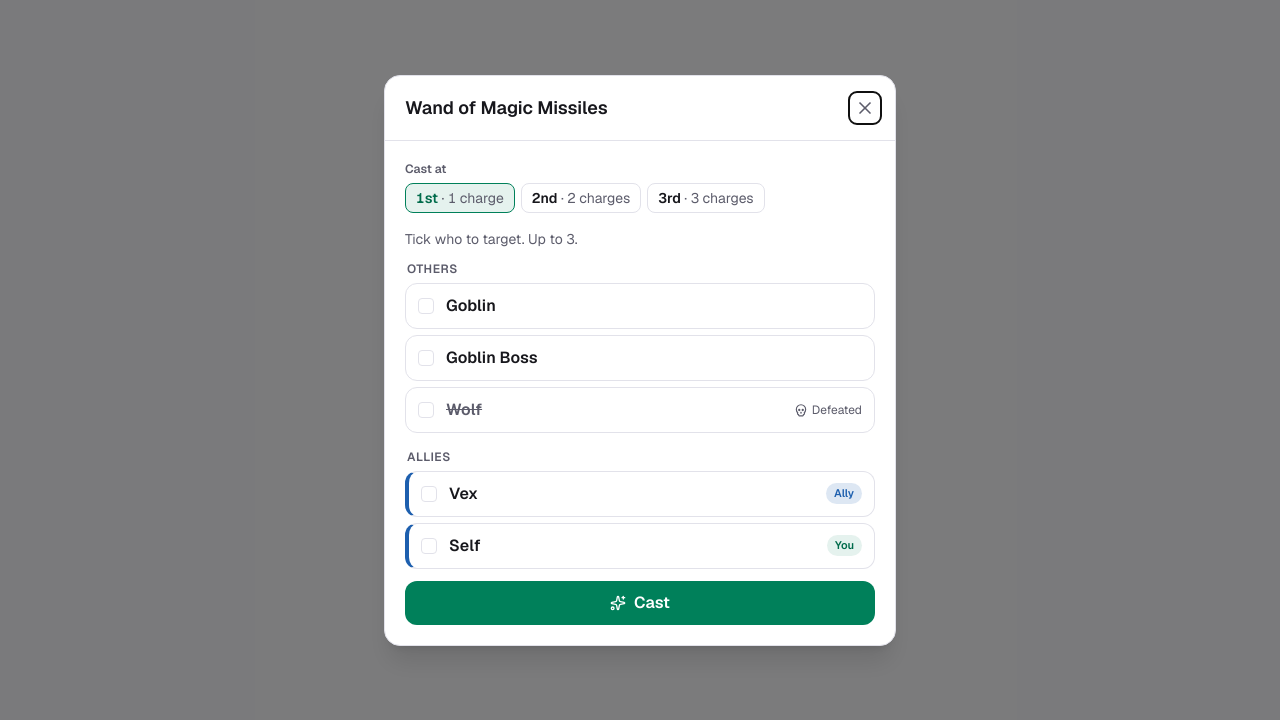
Test: components/character-sheet/use-picker › a spell an item casts, from module 0.20.0 › takes as many targets more as the level chosen is above its own
The width and height of the screenshot is (1280, 720).
Expected: the text "Tick who to target. Up to 3." is shown, top-left (405, 230), bottom-right (578, 248)
Click the radio button with aria-label "2nd Level, 2 charges": (581, 198) top-left (521, 182), bottom-right (641, 212)
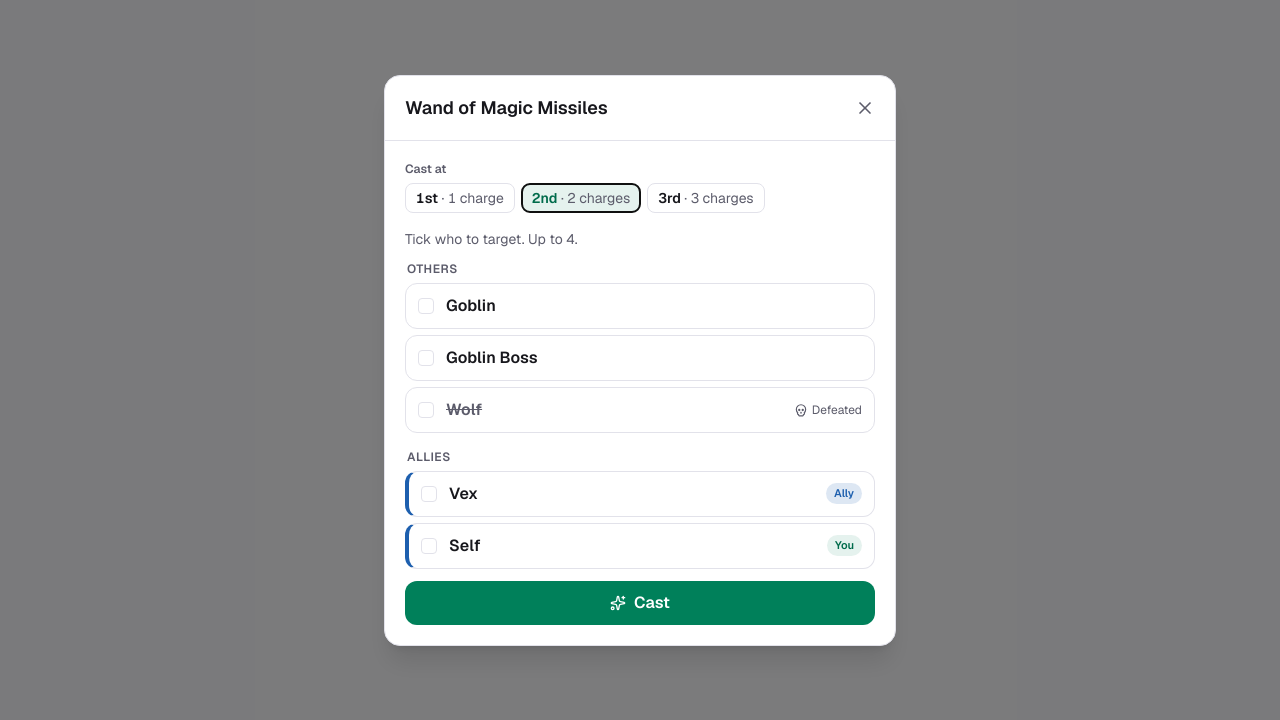
Expected: the text "Tick who to target. Up to 4." is shown, top-left (405, 230), bottom-right (578, 248)
Click the checkbox labelled "Goblin": (471, 305) top-left (405, 282), bottom-right (875, 328)
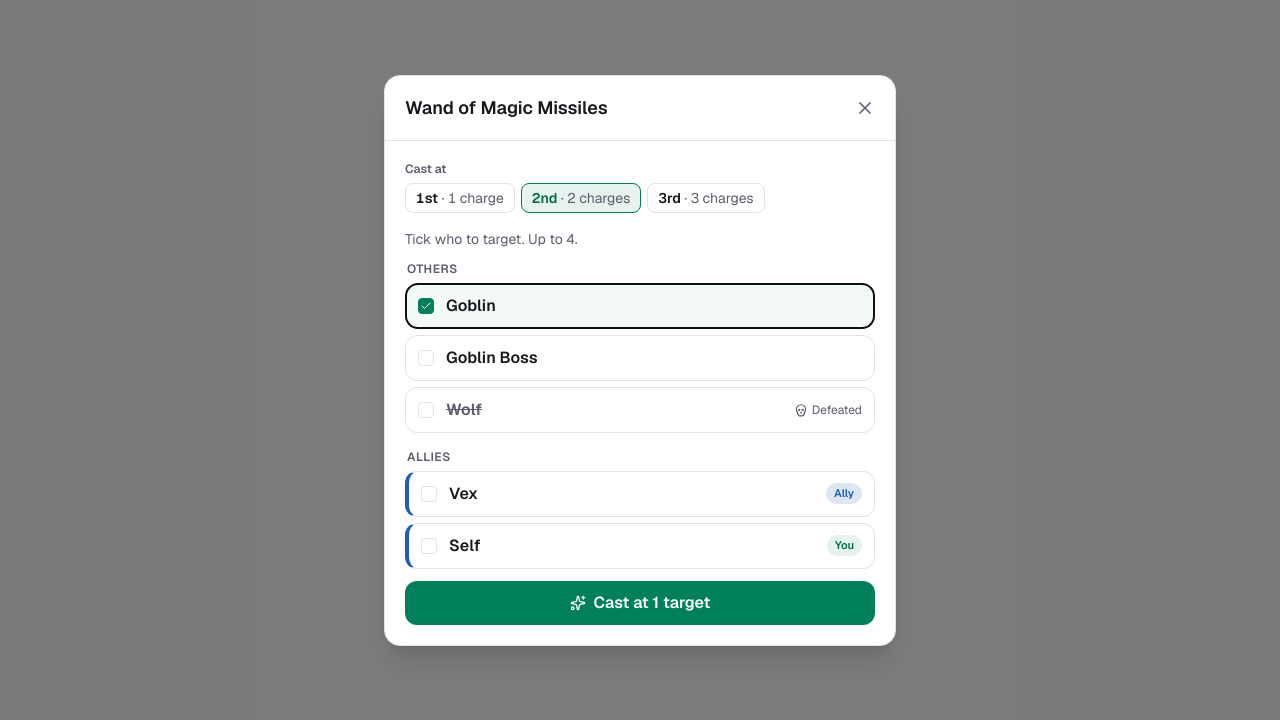
Click the checkbox labelled "Vex Ally": (844, 494) top-left (405, 470), bottom-right (875, 516)
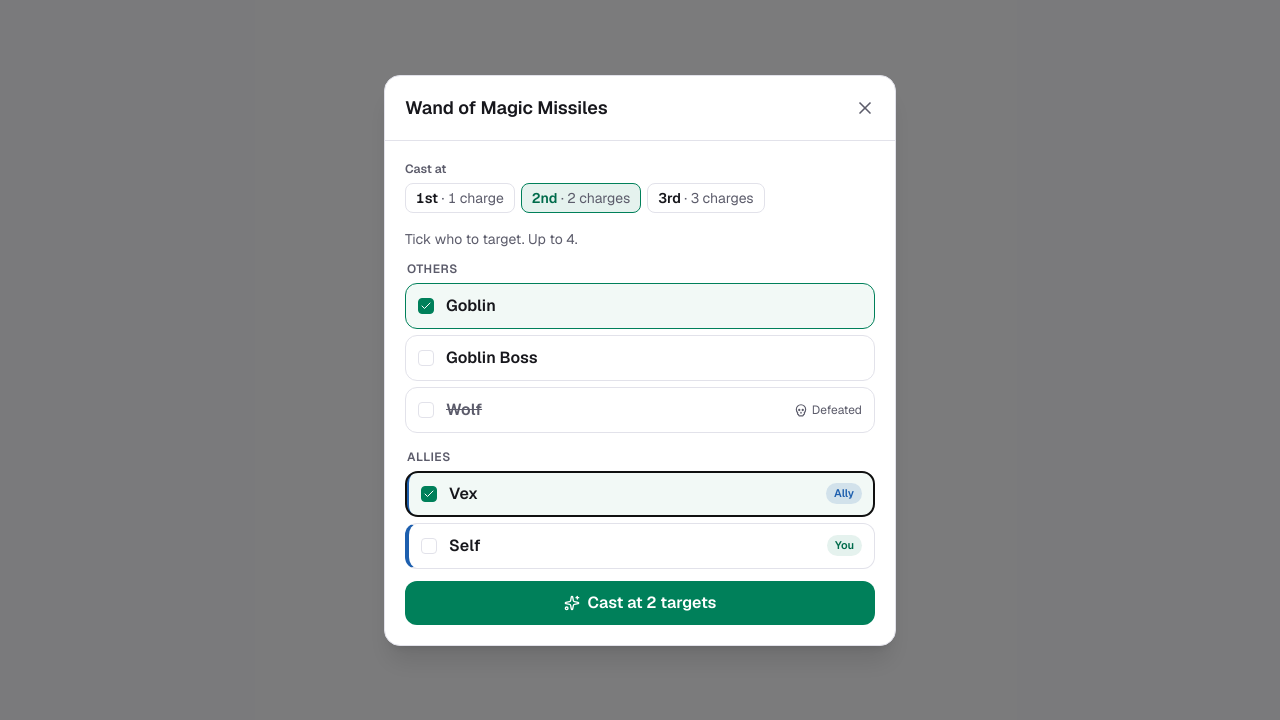
Click the checkbox labelled "Goblin Boss": (492, 357) top-left (405, 334), bottom-right (875, 380)
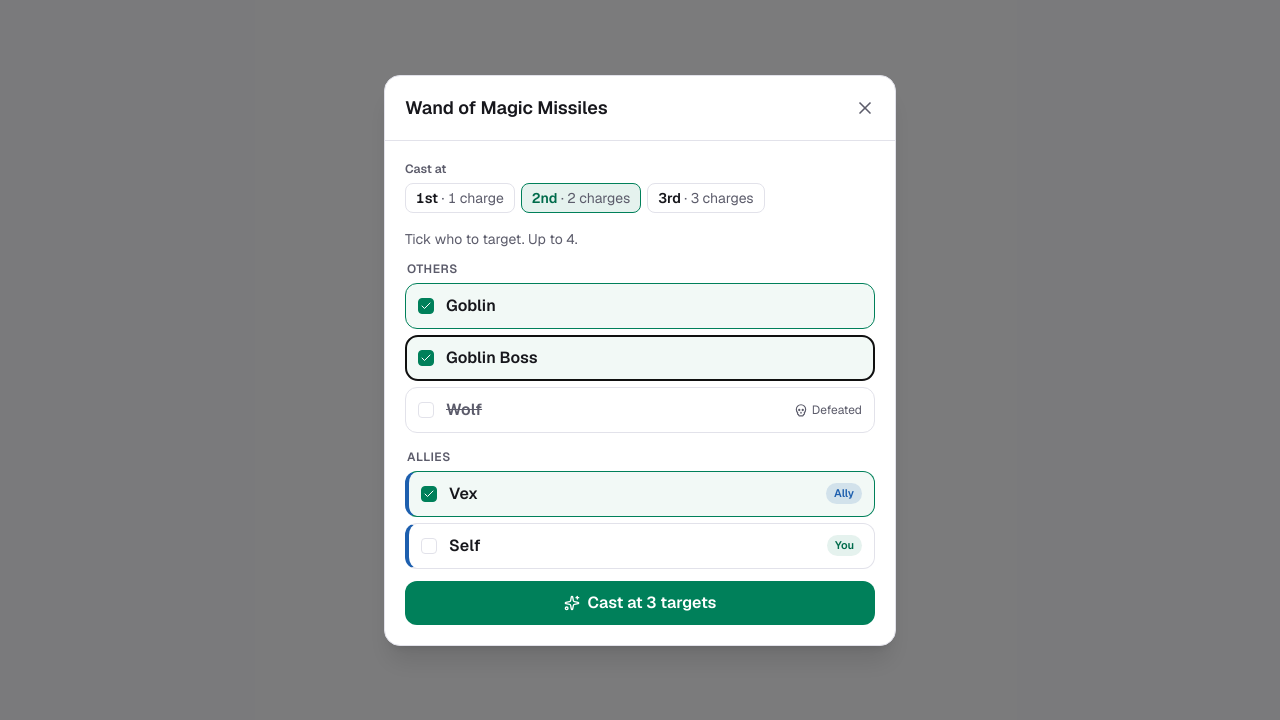
Click the checkbox labelled "Wolf Defeated": (464, 409) top-left (405, 386), bottom-right (875, 432)
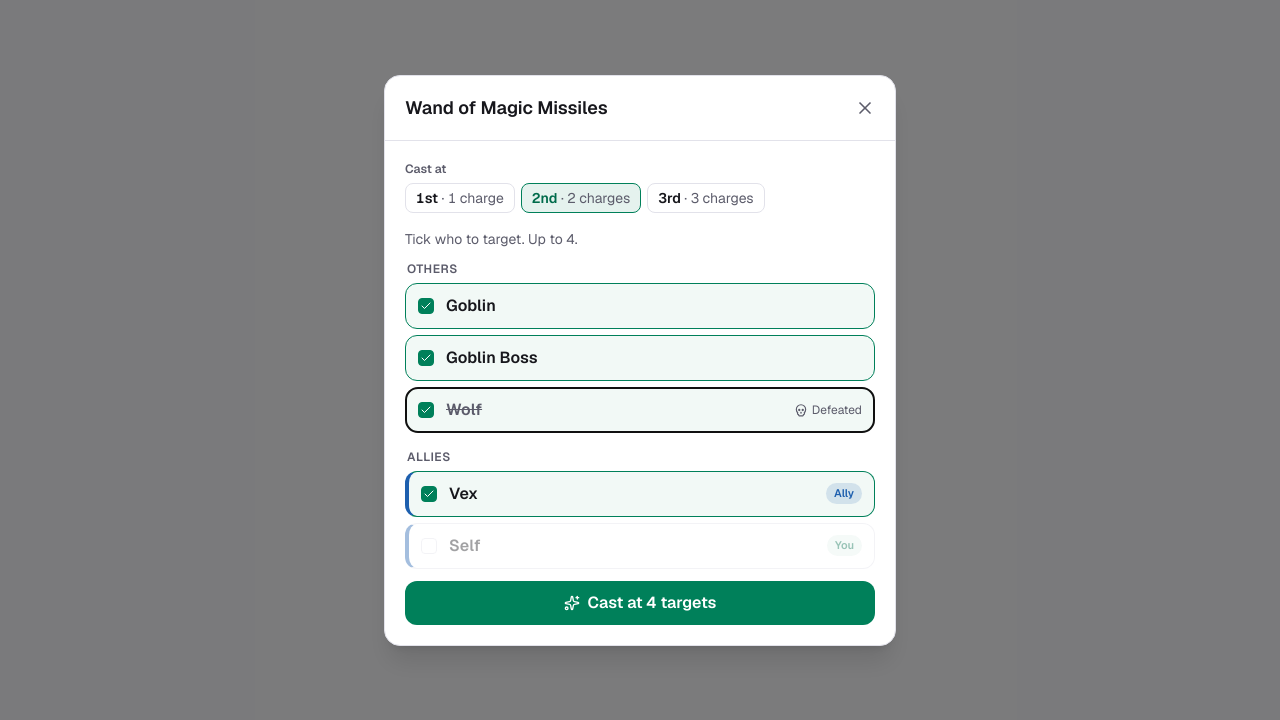
Expected: the button "Cast at 4 targets" is shown, top-left (405, 580), bottom-right (875, 624)
